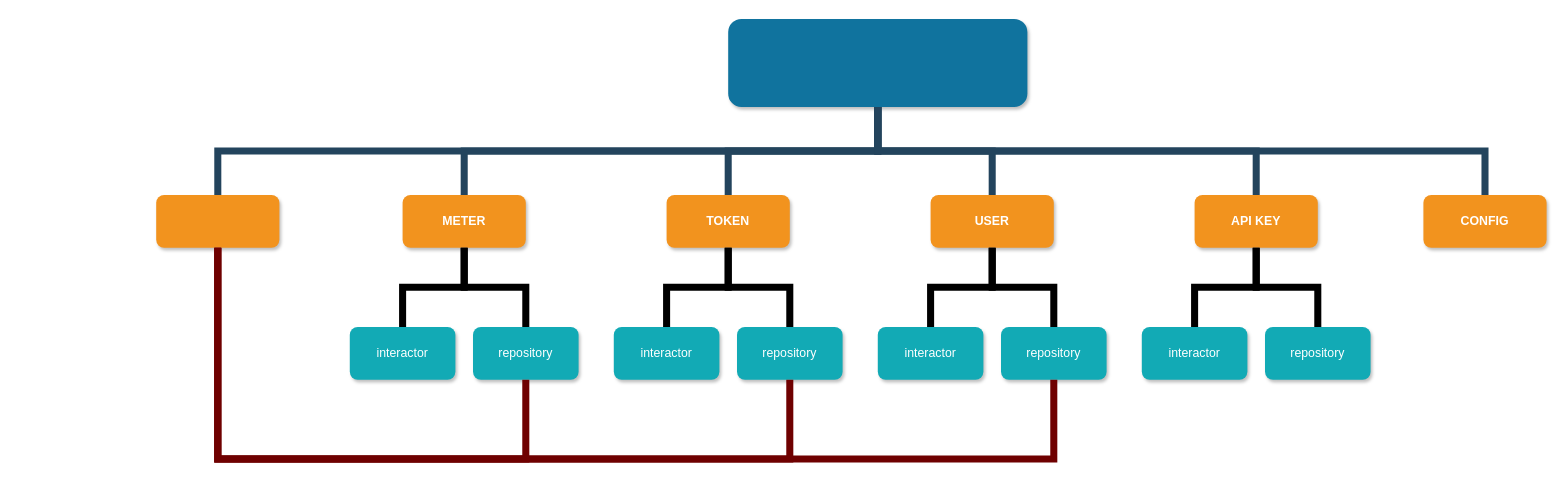
The diagram is 1566 pixels wide and 478 high, and some of its shapes have lost their labels. Here are the shapes that lost their labels. From the top down, the centre of each, then its label:
At point (878, 64): "BACKEND".
At point (218, 222): "DATABASE".
